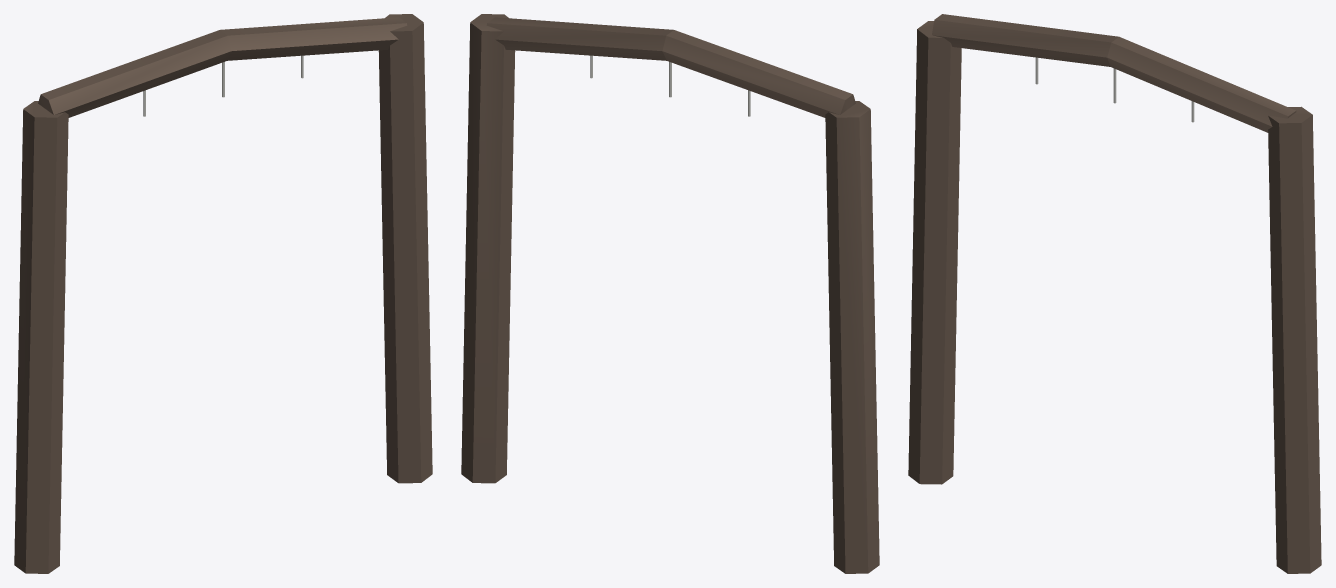
The model's file is Thread_Cocoons_Used.fbx.
3 views of the same model, side by side, from view 1: azimuth 30°, elevation 25°; view 2: azimuth 150°, elevation 25°; view 3: azimuth 330°, elevation 25° (orthographic).
Visible parts, largest first — view 1: Res_Thread_Cocoons_Used; view 2: Res_Thread_Cocoons_Used; view 3: Res_Thread_Cocoons_Used.
Boxes of the visible parts, left/top/right/bottom form: Res_Thread_Cocoons_Used: left=14, top=14, right=432, bottom=573; Res_Thread_Cocoons_Used: left=461, top=14, right=879, bottom=573; Res_Thread_Cocoons_Used: left=908, top=14, right=1321, bottom=573.
Bounding box in the file's own units: 2.06 × 2.36 × 0.2.
